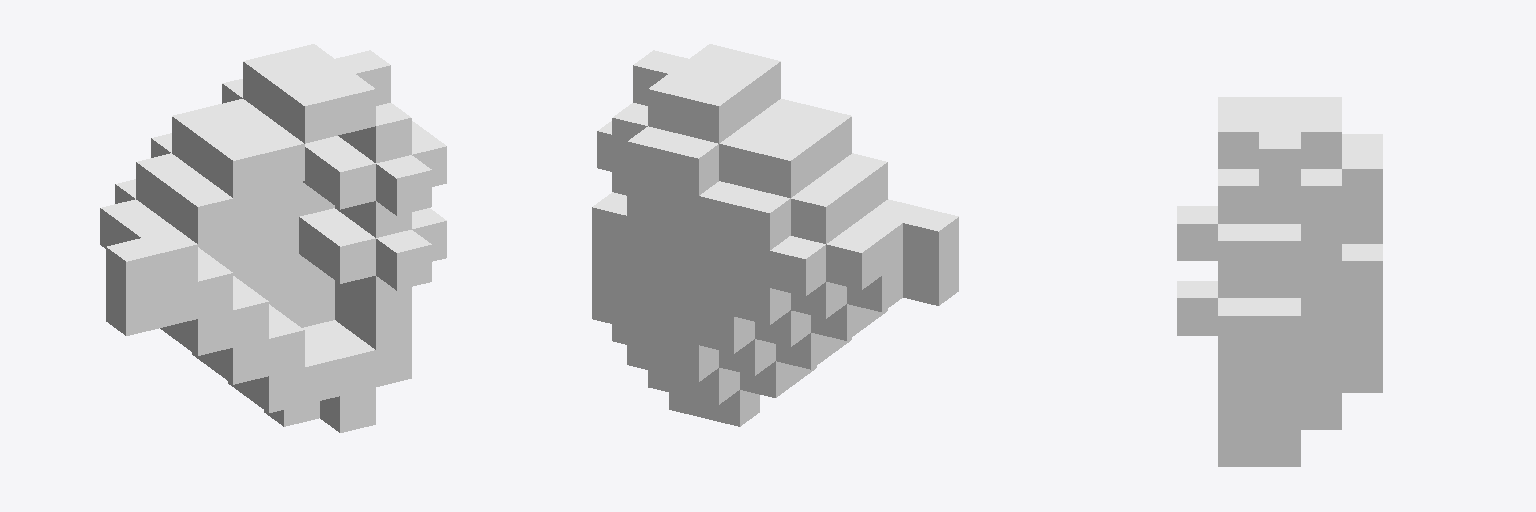
The model's file is kot-0.obj.
3 renders of one model, left to right at view 1: azimuth 30°, elevation 25°; view 2: azimuth 150°, elevation 25°; view 3: azimuth 270°, elevation 25°, orthographic.
Visible parts, largest first — view 1: object 1; view 2: object 1; view 3: object 1.
Boxes of the visible parts, box(x1,y1,x2,y2) form: object 1: box(100, 44, 446, 432); object 1: box(592, 44, 958, 426); object 1: box(1177, 97, 1382, 466).
Bounding box in the file's own units: 0.9 × 0.9 × 0.5.